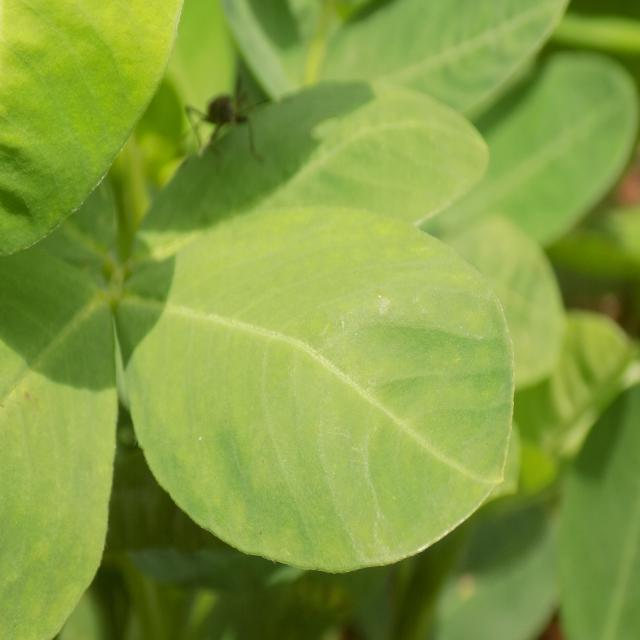Ground nut_healthy: (113, 211, 513, 573), (126, 80, 492, 280)
